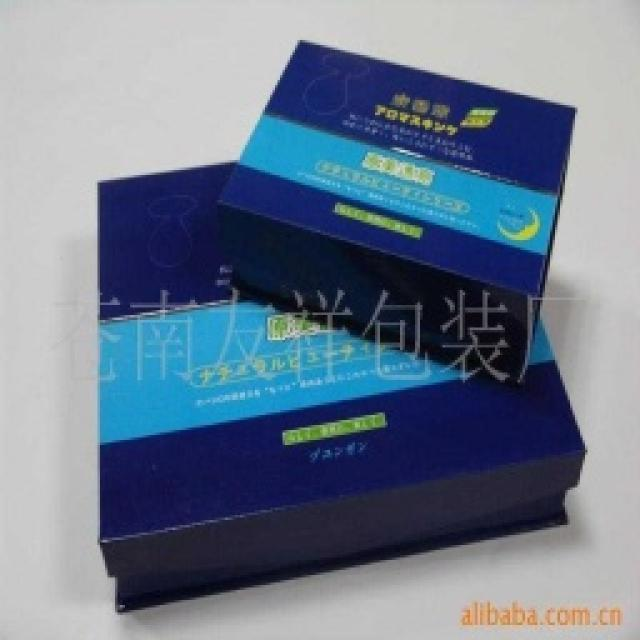box: (82, 158, 592, 582), (211, 42, 586, 382)
